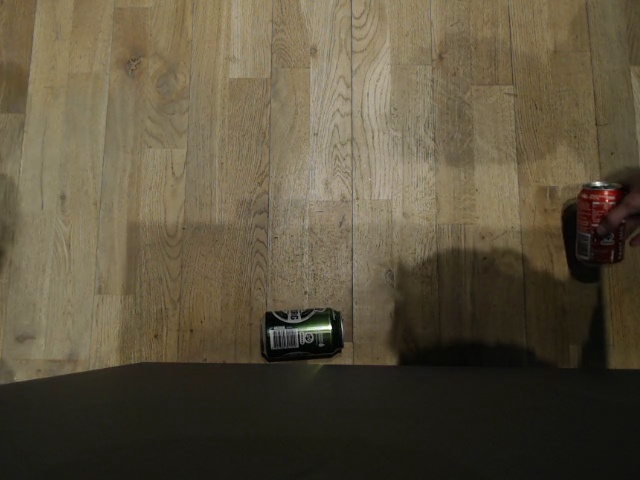beer: (255, 305, 347, 362)
cola: (576, 183, 626, 267)
